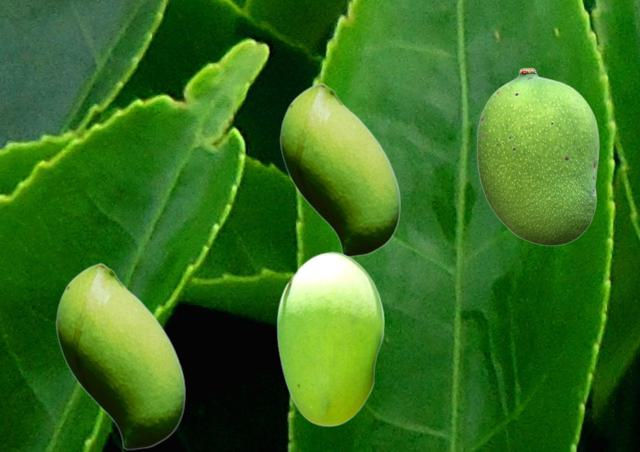green_mango: (55, 262, 184, 449), (476, 67, 598, 245), (279, 82, 399, 256), (276, 251, 383, 425)
